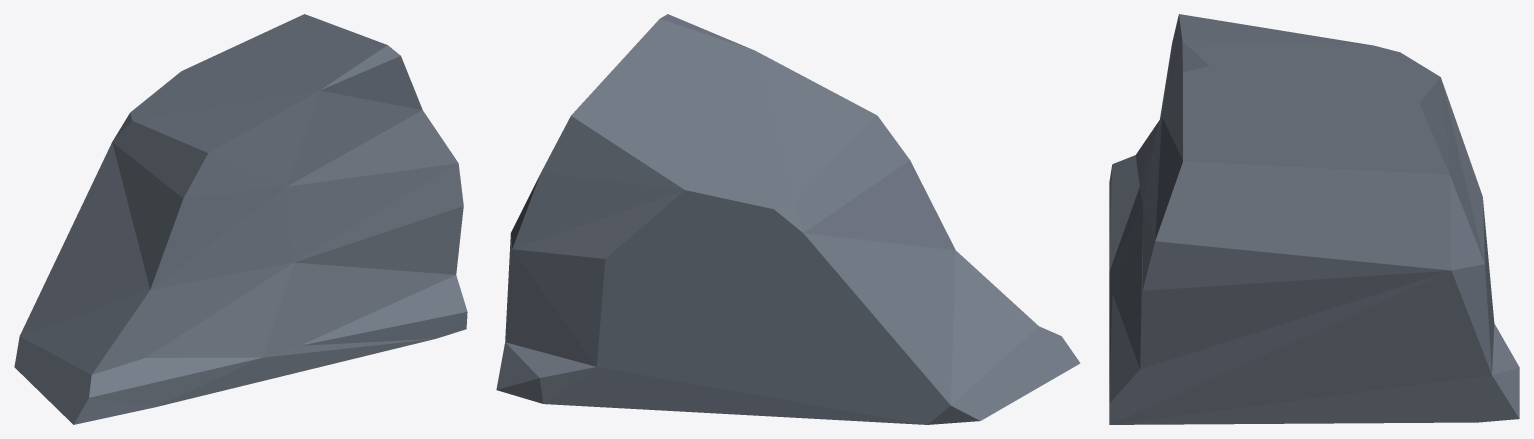
File: WallPiece6.fbx
3 renders of one model, left to right at view 1: azimuth 30°, elevation 25°; view 2: azimuth 150°, elevation 25°; view 3: azimuth 270°, elevation 25°, orthographic. The views are drawn at different scales.
Parts seen in each view (by area): view 1: WallPiece6; view 2: WallPiece6; view 3: WallPiece6.
Boxes of the visible parts, x1=… form: WallPiece6: x1=14, y1=14, x2=467, y2=424; WallPiece6: x1=496, y1=14, x2=1080, y2=424; WallPiece6: x1=1109, y1=14, x2=1519, y2=424.
Size of the model in its own units: 172 by 109 by 120.
